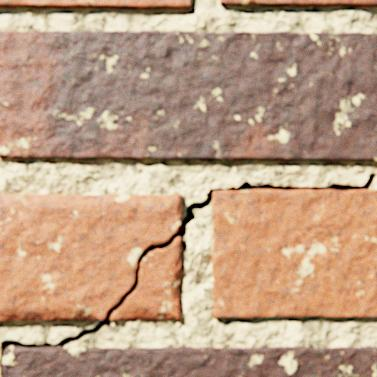brick: (0, 31, 376, 161), (212, 189, 376, 317), (4, 346, 376, 376), (0, 0, 190, 10), (220, 0, 376, 8)
broken_brick: (0, 194, 181, 320), (111, 237, 181, 319)
crack: (1, 172, 375, 376)
